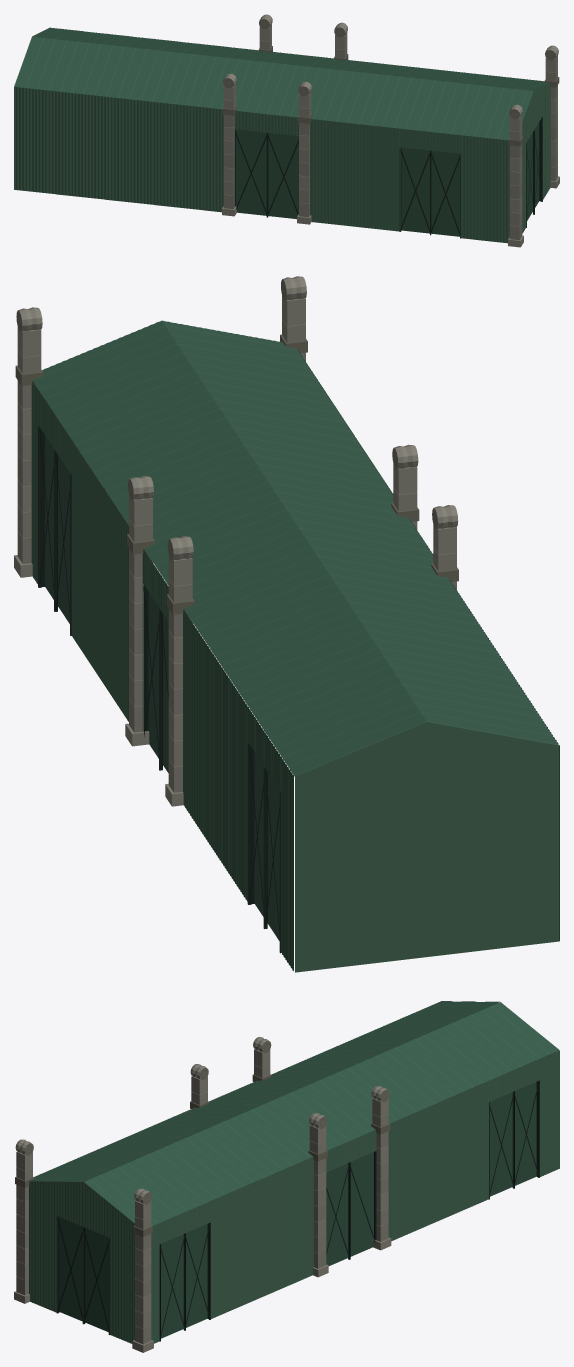
Rendered from skur-indexed.glb.
3 renders of one model, top to bottom at view 1: azimuth 30°, elevation 25°; view 2: azimuth 150°, elevation 25°; view 3: azimuth 270°, elevation 25°, orthographic. The views are drawn at different scales.
Parts seen in each view (by area): view 1: way/393025479|landmark; view 2: way/393025479|landmark; view 3: way/393025479|landmark.
Part boxes in pixels (<box>): way/393025479|landmark: <box>14,14,559,247</box>; way/393025479|landmark: <box>14,276,559,972</box>; way/393025479|landmark: <box>14,1001,559,1352</box>.
Bounding box in the file's own units: 28.34 × 8.97 × 28.
